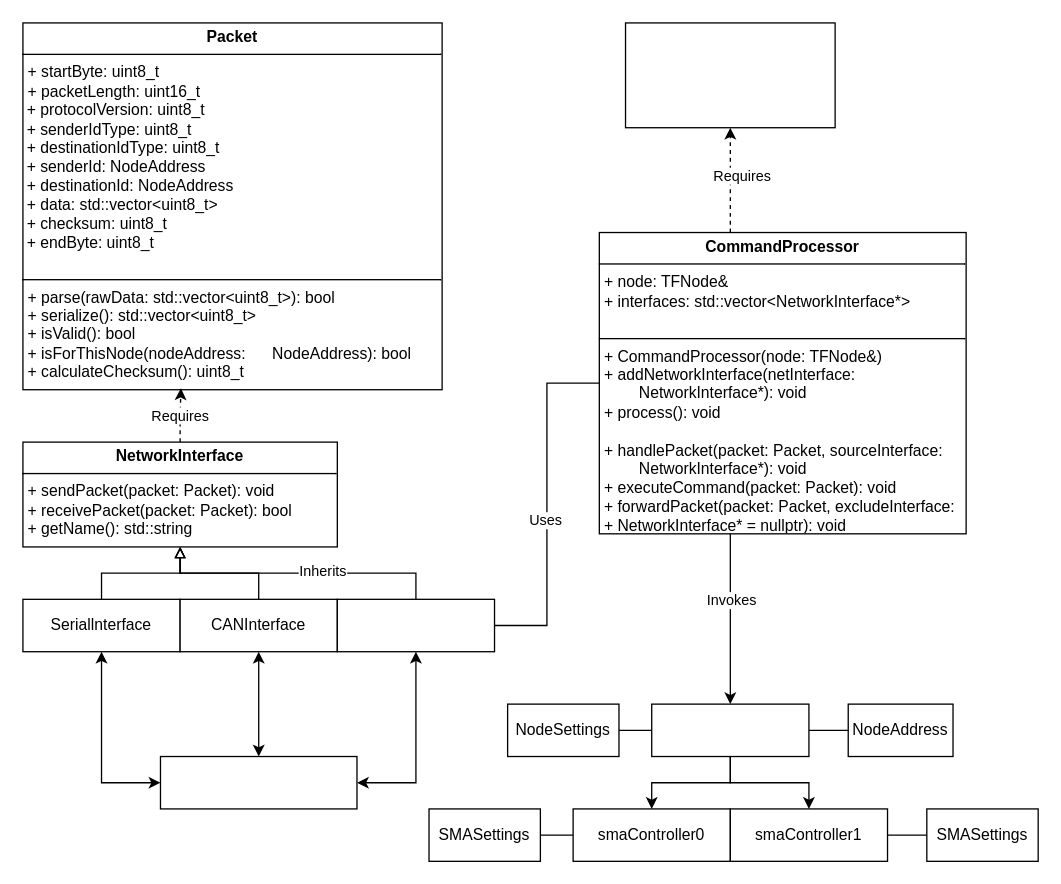
Image size: 1061x884. Some labels were removed from this diagram. Each missing label, with the centre of its shape:
(External Networks): pixel 258 782
SPIInterface: pixel 415 625
TFNode: pixel 729 730
tfnode::* Enums and Messages from .proto file: pixel 729 75
